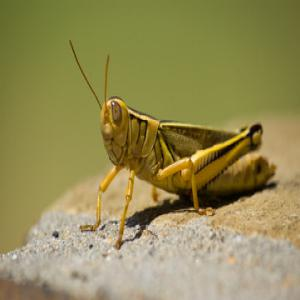locust: (67, 64, 282, 214)
